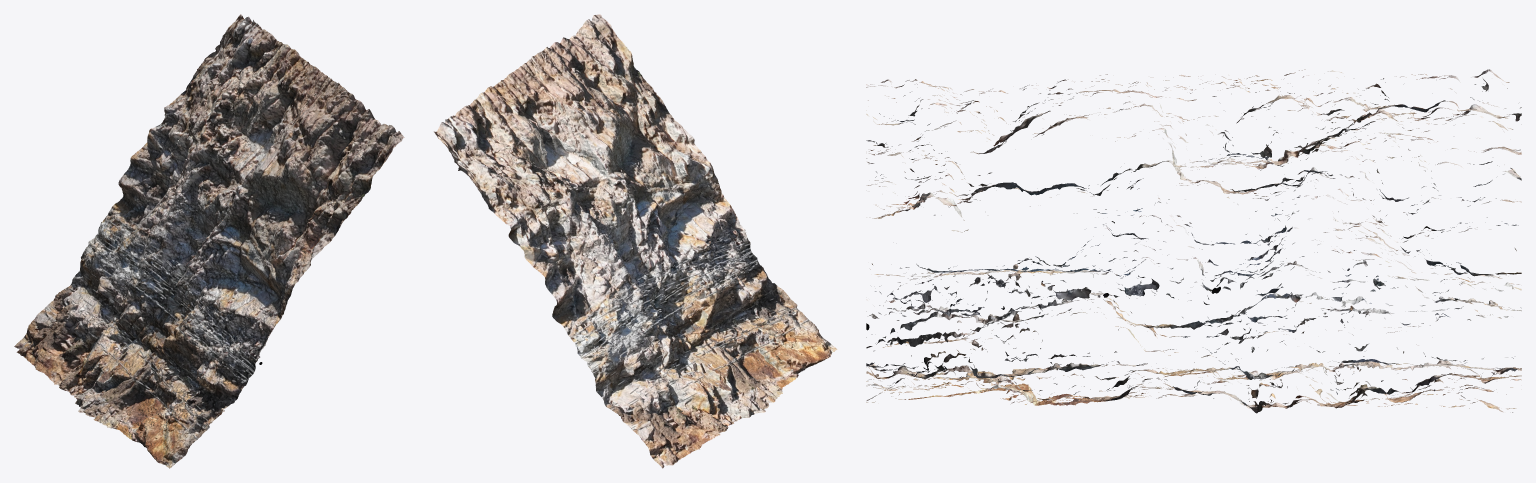
3 views of the same model, side by side, from view 1: azimuth 30°, elevation 25°; view 2: azimuth 150°, elevation 25°; view 3: azimuth 270°, elevation 25° (orthographic). The views are drawn at different scales.
Bounding box in the file's own units: 6.59 × 7.23 × 7.63.
Materials: 4 (4 with a texture image).
